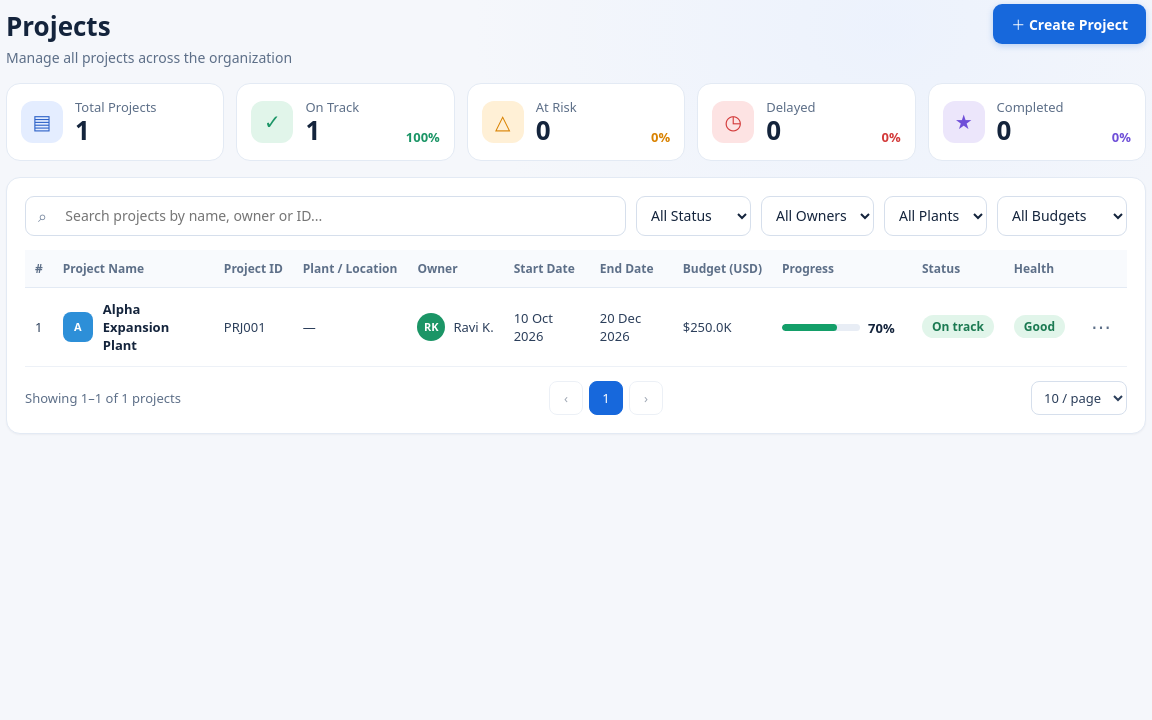
ProjectsPage › opens the wizard with the next project code and advances to step 2
This screenshot has width=1152, height=720.
Expected: the text "Alpha Expansion Plant" is shown, [103, 300, 169, 354]
Step 1. Click the button "＋ Create Project" → (1070, 24), box [993, 4, 1146, 44]
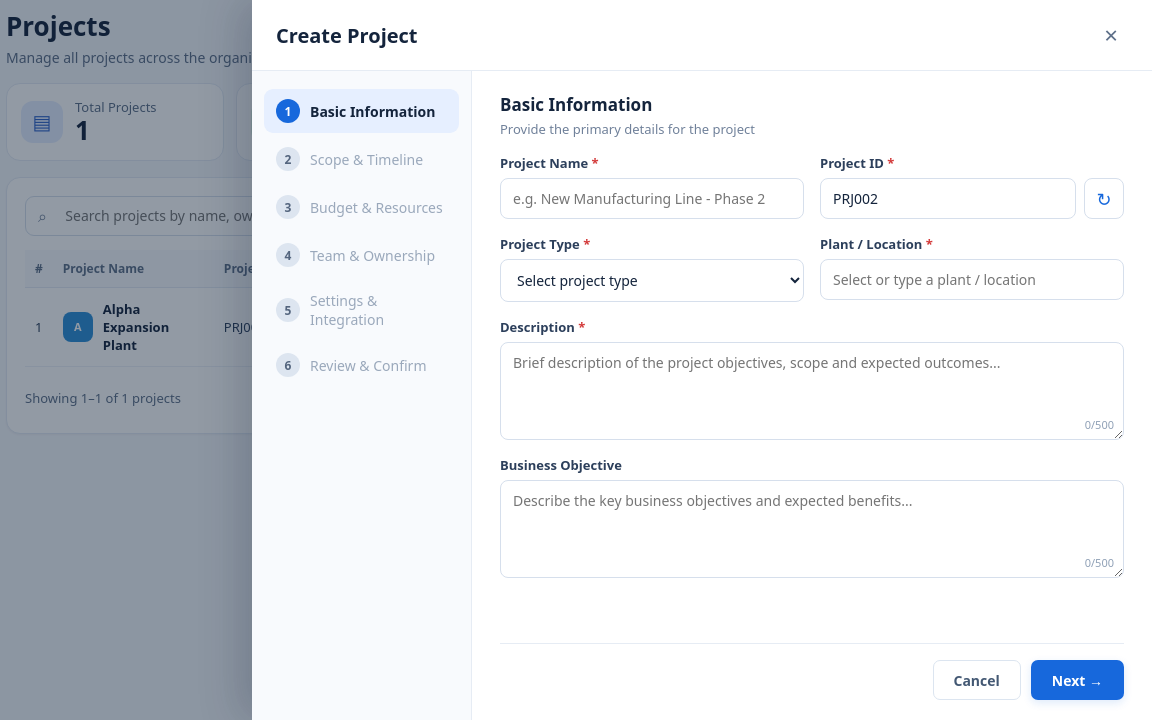
Now the field labelled "Project ID * ↻" holds "PRJ002", box [820, 178, 1076, 219]
Step 2. Type "Digital Twin" into the field labelled "Project Name *" → (652, 198), box [500, 178, 804, 219]
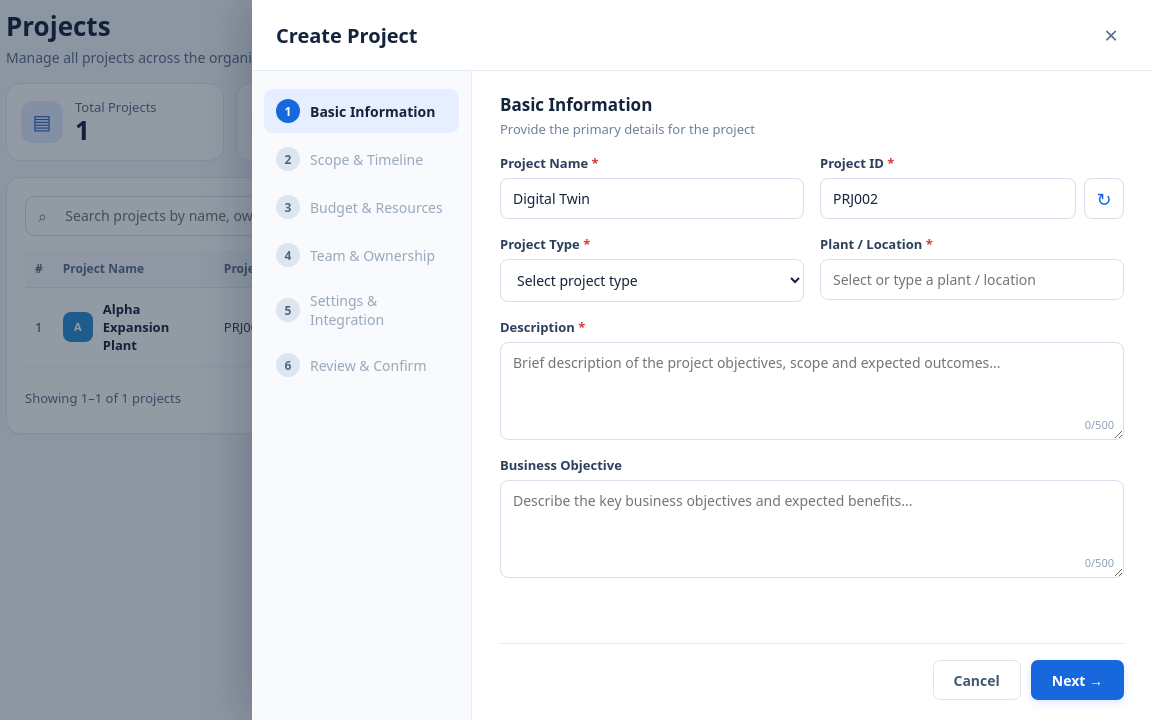
Step 3. Select "Expansion" in the dropdown labelled "Project Type *" → (652, 280), box [500, 259, 804, 302]
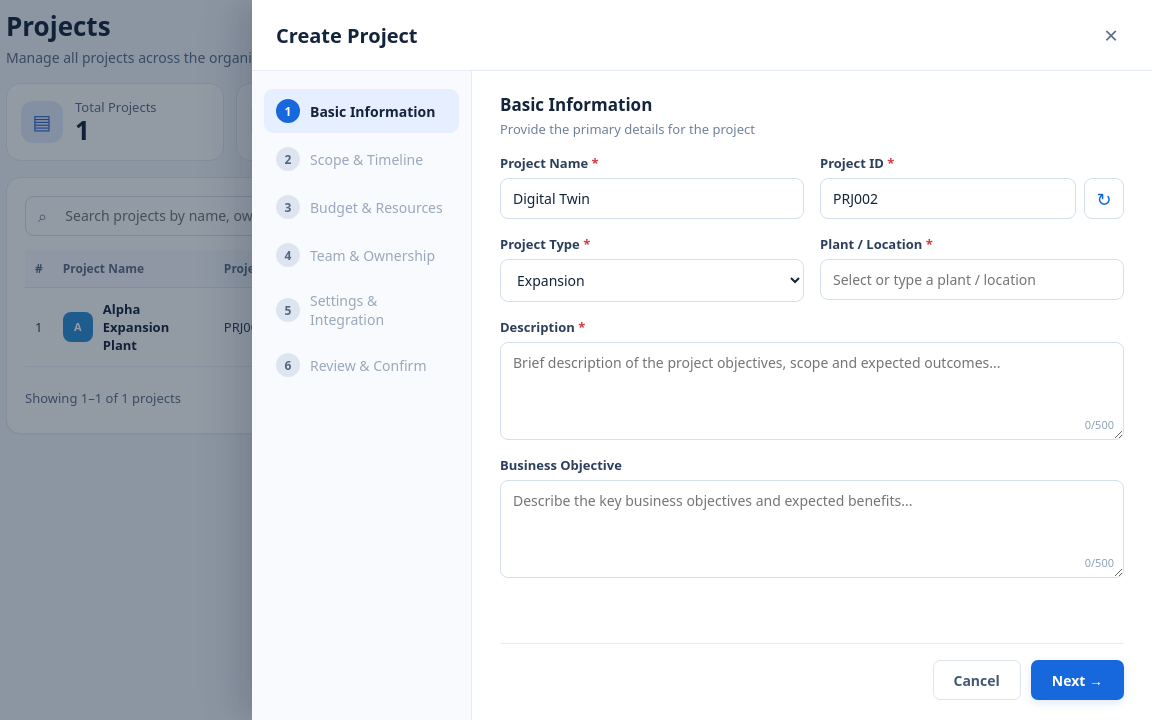
Step 4. Type "Plant A" into the field labelled "Plant / Location *" → (972, 280), box [820, 259, 1124, 300]
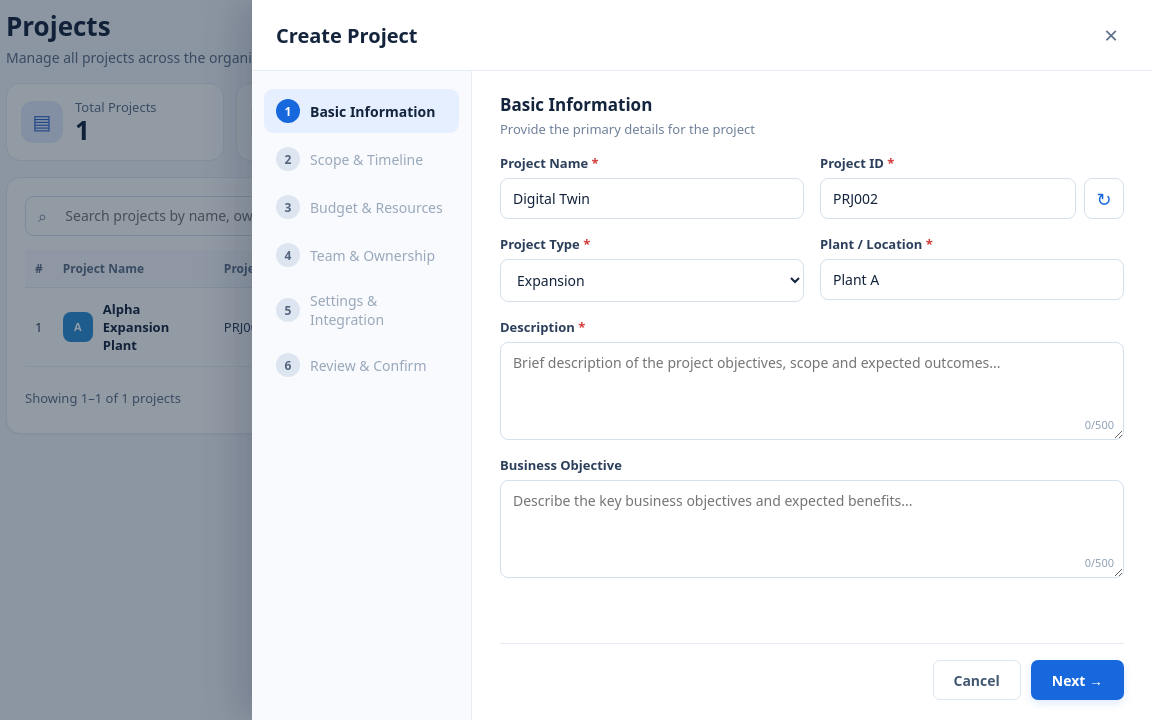
Step 5. Replace the text in the text box labelled "Description * 0/500" with "Twin of the line" → (812, 391), box [500, 342, 1124, 440]
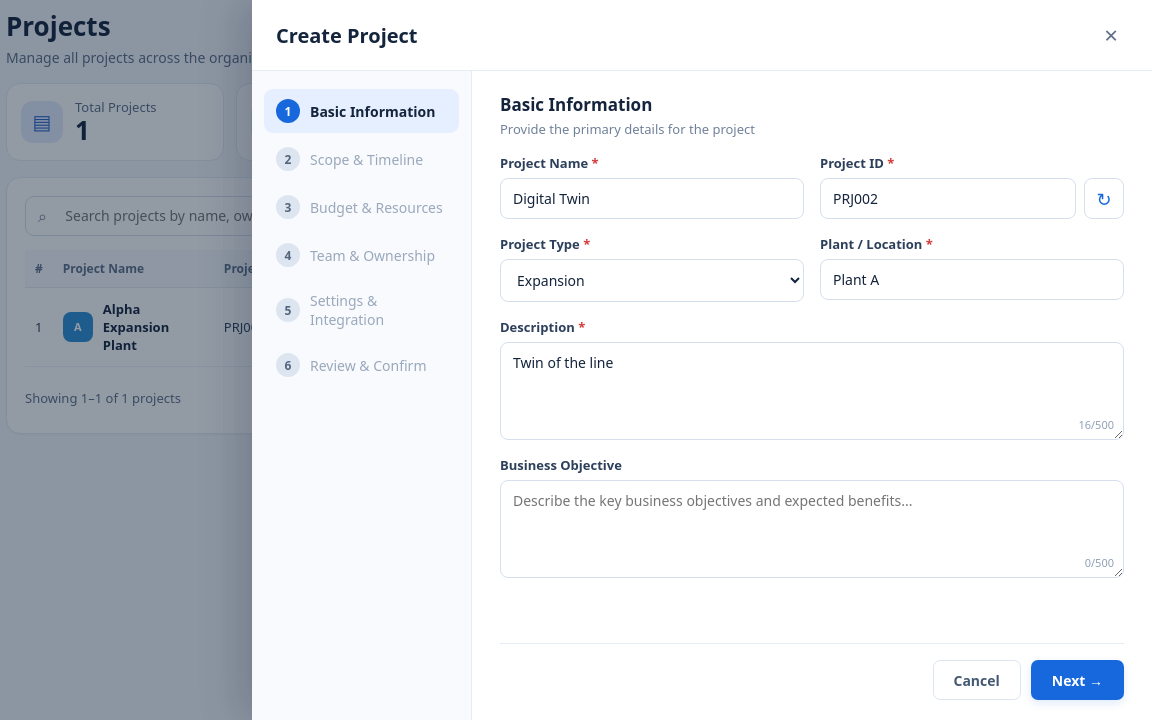
Step 6. Click the button "Next →" → (1077, 680), box [1031, 660, 1124, 700]
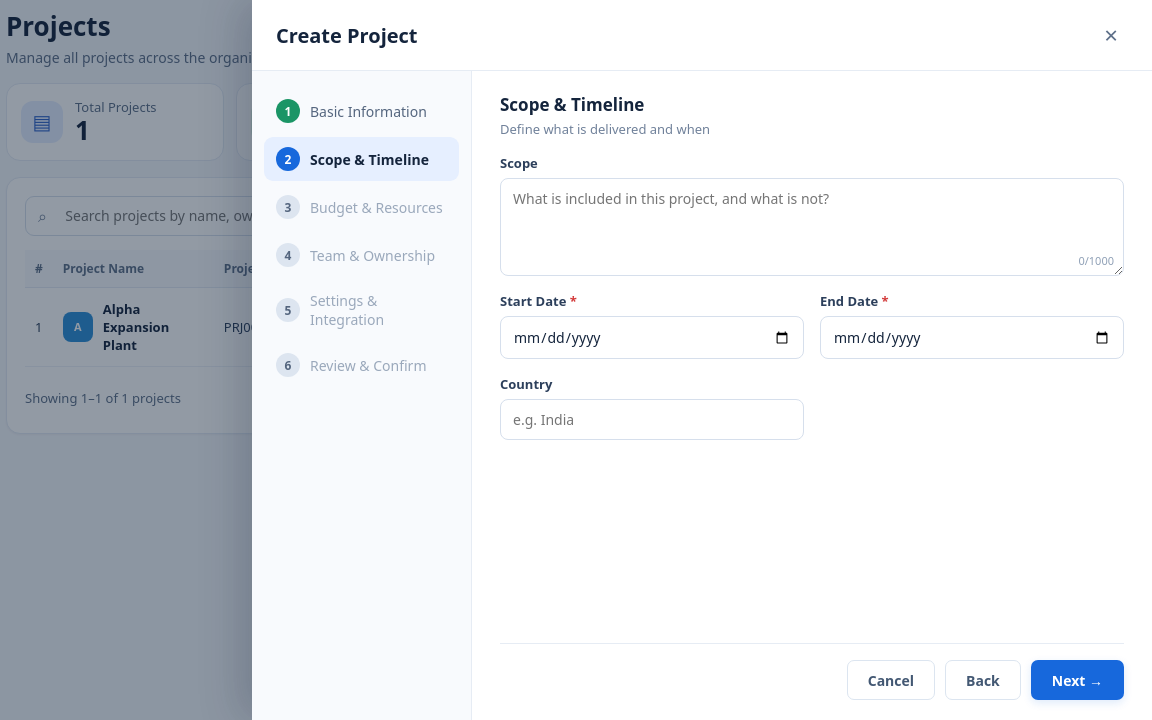
Now the heading "Scope & Timeline" is shown, box [500, 93, 644, 116]
